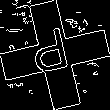P_S: (31, 27, 79, 83)
